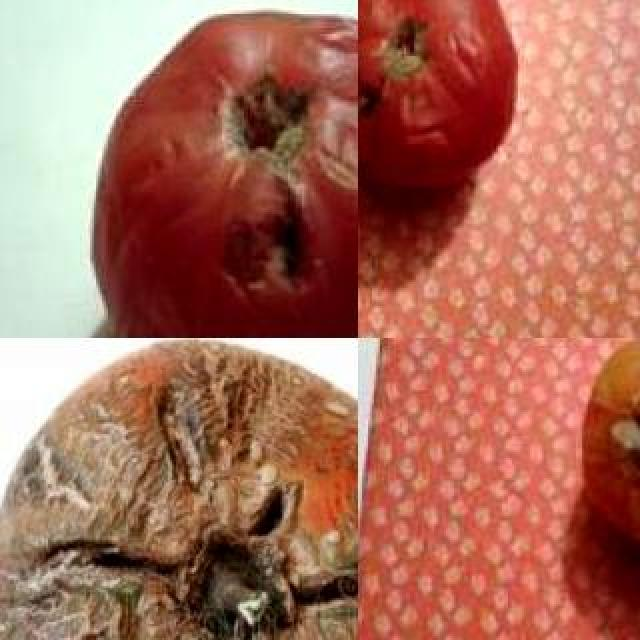Rotten_Tomato: (0, 338, 358, 640), (74, 0, 358, 338), (358, 0, 526, 204), (574, 338, 640, 588)
